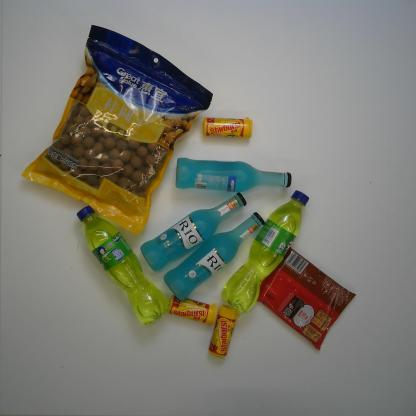Alcohol: (162, 211, 266, 302), (140, 191, 248, 272), (174, 156, 292, 194)
Candy: (206, 305, 240, 358), (167, 295, 218, 325), (202, 116, 253, 139)
Dessert: (256, 246, 357, 352)
Dried Food: (19, 23, 214, 238)
Drink: (76, 205, 170, 328), (220, 189, 310, 315)
